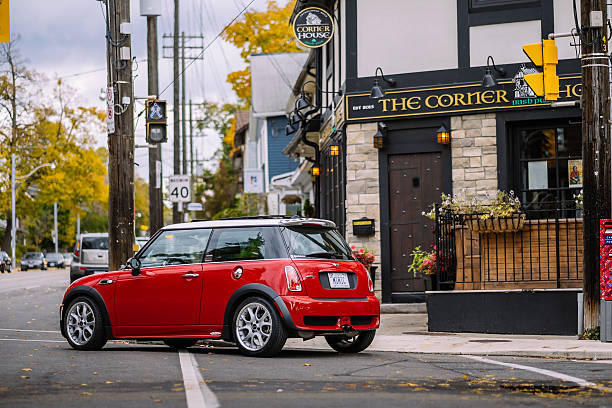licence: (323, 269, 354, 292)
